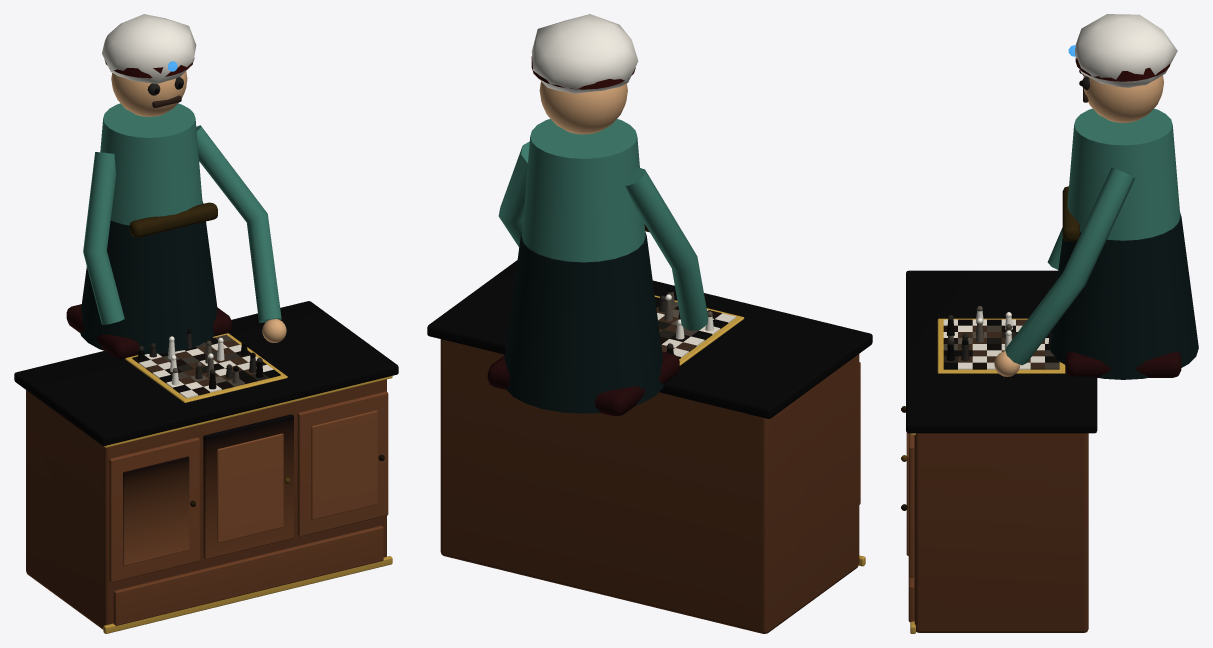
The model's file is turk.glb.
3 views of the same model, side by side, from view 1: azimuth 30°, elevation 25°; view 2: azimuth 150°, elevation 25°; view 3: azimuth 270°, elevation 25° (orthographic). The views are drawn at different scales.
Parts seen in each view (by area): view 1: turk.plank.0, turk.plank.1, turk.fabric.7, turk.fabric.6, anim-drawer, anim-door0-panel, anim-door1-panel, anim-door2-panel, anim-door2, anim-door0, anim-door1, anim-head-turban (+7 smaller); view 2: turk.plank.0, turk.fabric.6, turk.fabric.7, turk.plank.1, anim-head-turban, anim-head, turk.fabric.9, anim-arm, turk.paint.5, turk.paint.4, turk.brass.2; view 3: turk.plank.0, turk.plank.1, turk.fabric.6, turk.fabric.7, anim-arm, anim-head-turban, anim-head, turk.paint.5, turk.paint.4, turk.fabric.9, turk.brass.2, anim-door2 (+3 smaller).
Part boxes in pixels (<box>): turk.plank.0: <box>26,379,386,629</box>; turk.plank.1: <box>14,301,398,445</box>; turk.fabric.7: <box>83,103,202,324</box>; turk.fabric.6: <box>80,201,217,355</box>; anim-drawer: <box>113,525,383,625</box>; anim-door0-panel: <box>123,456,189,565</box>; anim-door1-panel: <box>217,433,283,542</box>; anim-door2-panel: <box>311,410,377,519</box>; anim-door2: <box>297,391,388,536</box>; anim-door0: <box>109,437,199,582</box>; anim-door1: <box>203,414,293,559</box>; anim-head-turban: <box>102,14,196,83</box>; turk.plank.0: <box>440,339,859,633</box>; turk.fabric.6: <box>504,232,663,413</box>; turk.fabric.7: <box>522,119,707,330</box>; turk.plank.1: <box>427,260,872,418</box>; anim-head-turban: <box>531,14,638,93</box>; anim-head: <box>539,81,627,134</box>; turk.fabric.9: <box>487,351,679,416</box>; anim-arm: <box>498,141,529,247</box>; turk.paint.5: <box>656,302,735,357</box>; turk.paint.4: <box>655,297,728,359</box>; turk.brass.2: <box>654,295,865,566</box>; turk.plank.0: <box>914,433,1088,632</box>; turk.plank.1: <box>906,270,1097,433</box>; turk.fabric.6: <box>1050,212,1198,379</box>; turk.fabric.7: <box>1047,108,1180,269</box>; anim-arm: <box>1005,167,1134,365</box>; anim-head-turban: <box>1075,14,1177,87</box>; anim-head: <box>1083,75,1163,122</box>; turk.paint.5: <box>943,319,1059,369</box>; turk.paint.4: <box>943,319,1059,369</box>; turk.fabric.9: <box>1065,352,1181,377</box>; turk.brass.2: <box>910,318,1065,633</box>; anim-door2: <box>908,433,914,577</box>.
Size of the model in its own units: 1.26 by 2.06 by 1.03.
